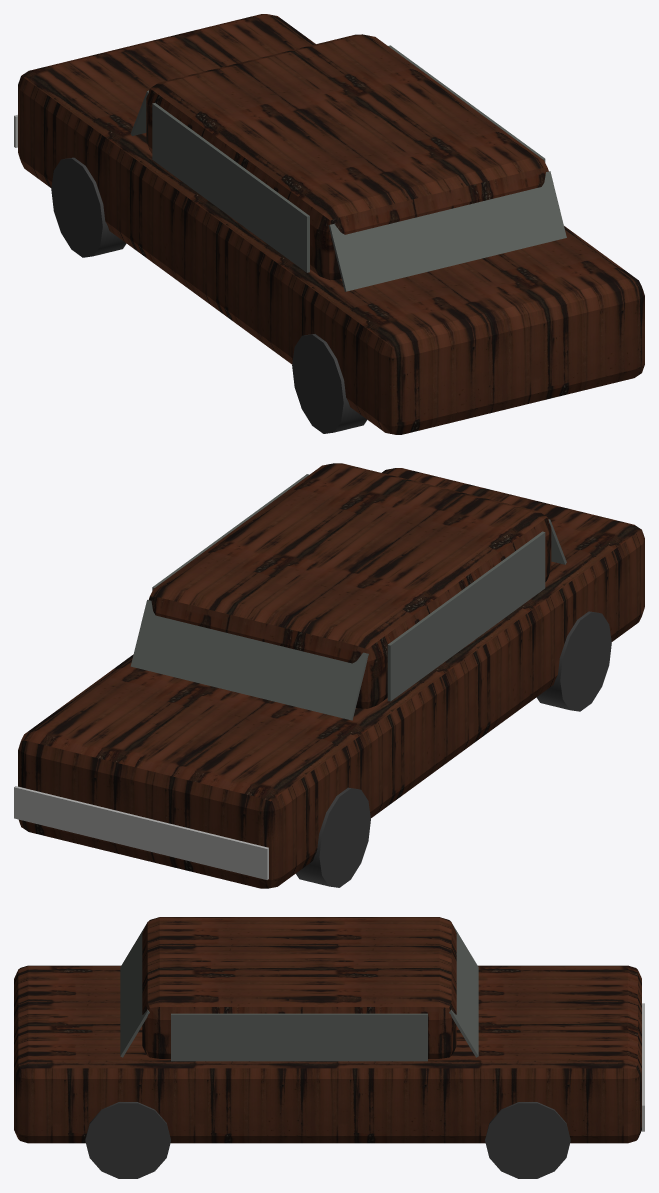
The model's file is junk_car.glb.
The picture shows the model from 3 angles, top to bottom: view 1: azimuth 30°, elevation 25°; view 2: azimuth 150°, elevation 25°; view 3: azimuth 270°, elevation 25°; orthographic projection. The views are drawn at different scales.
Parts seen in each view (by area): view 1: junk_car; view 2: junk_car; view 3: junk_car.
Boxes of the visible parts, x1,y1,x2,y2 form: junk_car: [14, 14, 644, 434]; junk_car: [14, 463, 644, 888]; junk_car: [14, 917, 644, 1178].
Size of the model in its own units: 1.8 by 1.29 by 4.42.
Materials: 4 (1 with a texture image).
